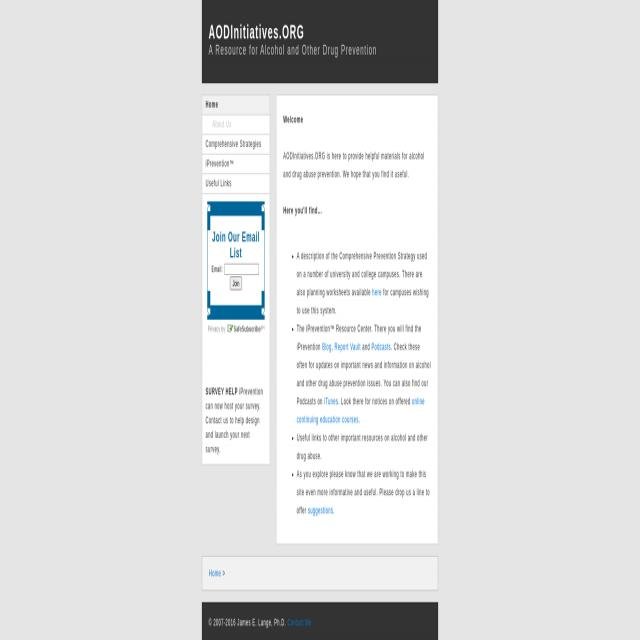button: (202, 115, 270, 135), (202, 135, 270, 155), (202, 154, 270, 174), (202, 174, 270, 194), (202, 96, 270, 116), (230, 277, 242, 290)
field: (225, 264, 259, 275)
